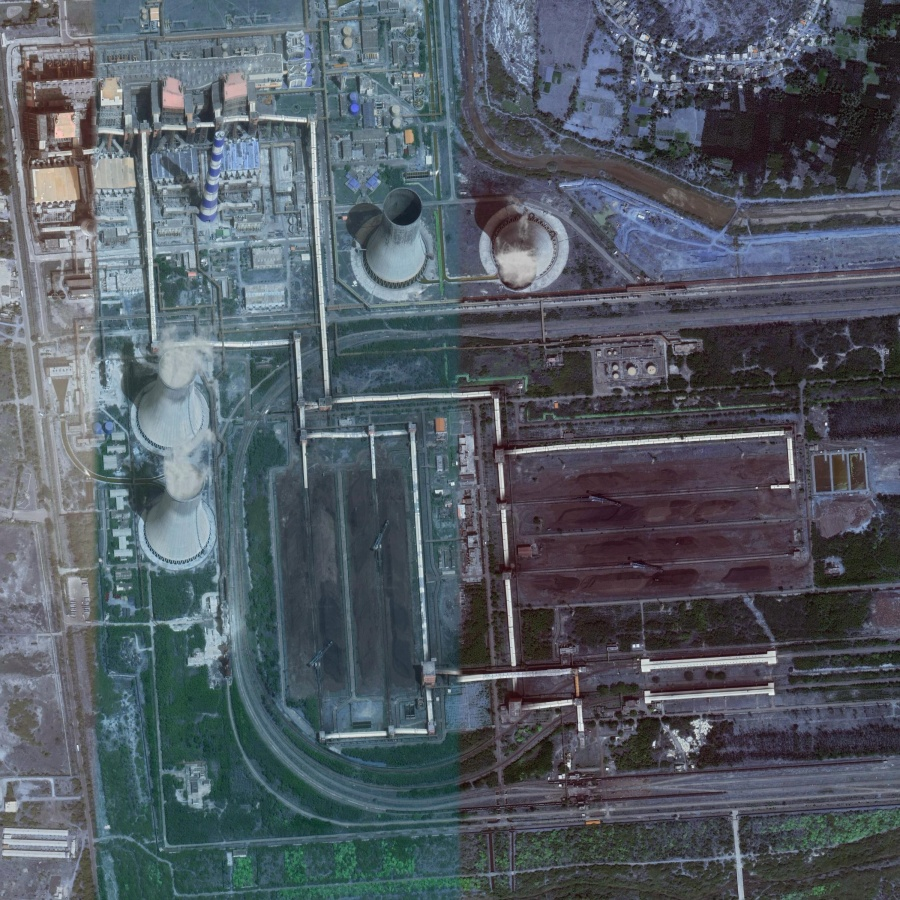PowerPlant: (102, 109, 814, 746)
